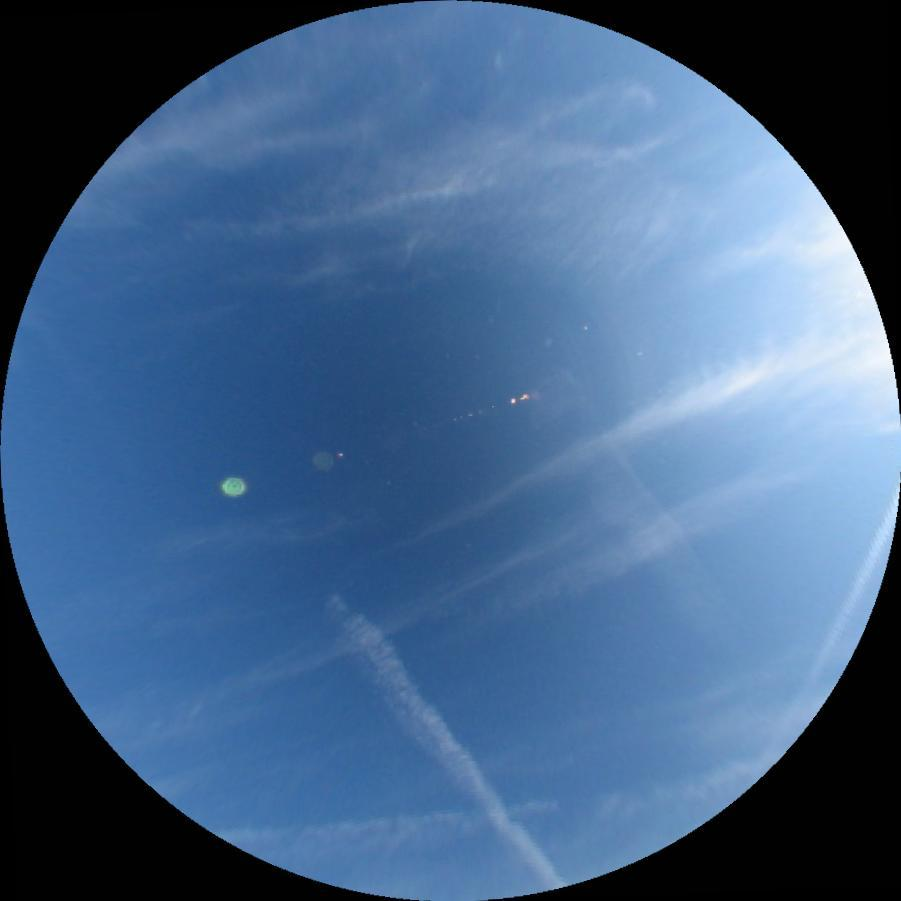contrail veryold: (521, 368, 751, 649)
unknow: (218, 752, 789, 899)
